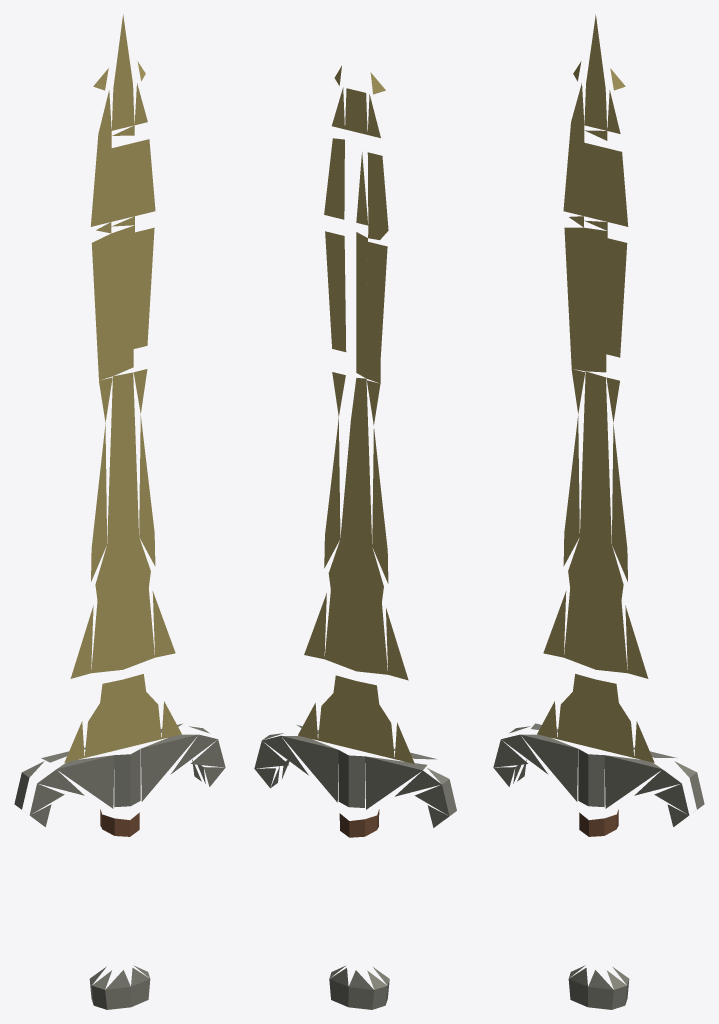
Rendered from Sword_LOD2.glb.
The picture shows the model from 3 angles, left to right: view 1: azimuth 30°, elevation 25°; view 2: azimuth 150°, elevation 25°; view 3: azimuth 330°, elevation 25°; orthographic projection.
Parts seen in each view (by area): view 1: Sword_Golden; view 2: Sword_Golden; view 3: Sword_Golden.
Boxes of the visible parts, bbox=[...] form: Sword_Golden: bbox=[14, 14, 225, 1009]; Sword_Golden: bbox=[254, 66, 456, 1009]; Sword_Golden: bbox=[493, 14, 704, 1009].
Bounding box in the file's own units: 1.21 × 5.85 × 0.2385.
